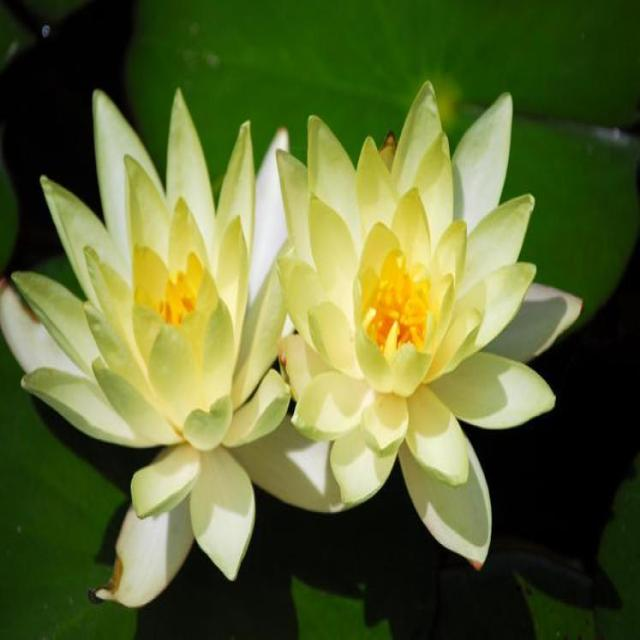rose: (16, 7, 590, 628)
